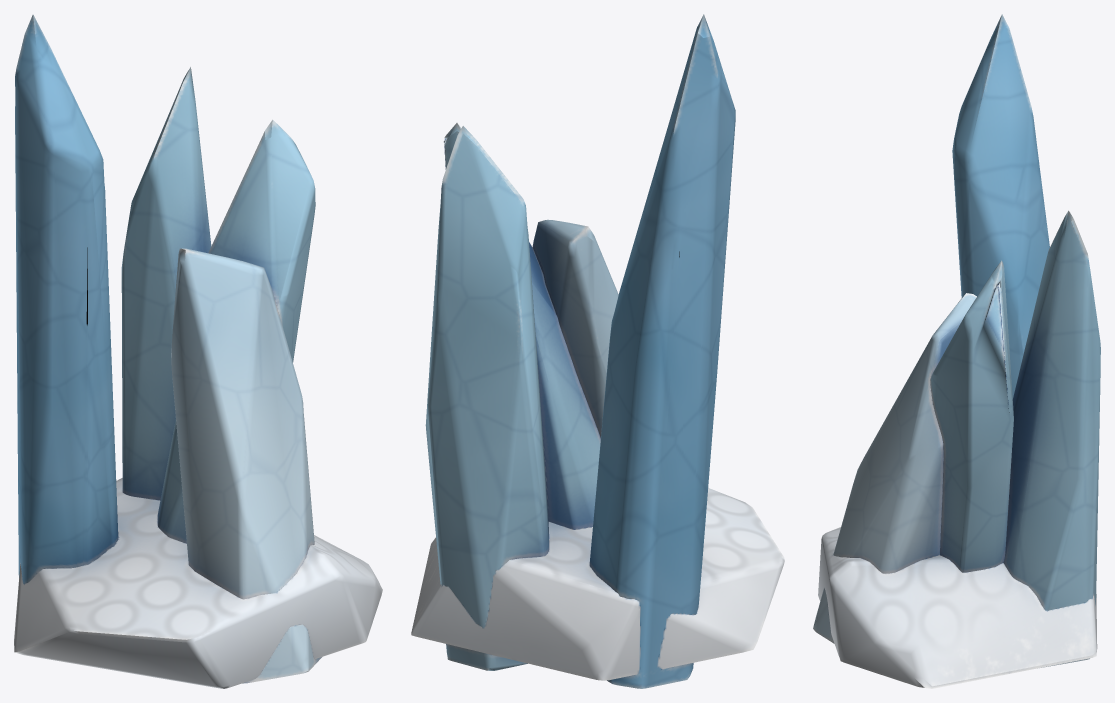
Rendered from Glace_Pic.fbx.
3 views of the same model, side by side, from view 1: azimuth 30°, elevation 25°; view 2: azimuth 150°, elevation 25°; view 3: azimuth 270°, elevation 25° (orthographic). The views are drawn at different scales.
Visible parts, largest first — view 1: Glace_Pic; view 2: Glace_Pic; view 3: Glace_Pic.
Boxes of the visible parts, x1,y1,x2,y2 form: Glace_Pic: (14, 14, 382, 688); Glace_Pic: (411, 14, 784, 688); Glace_Pic: (813, 14, 1100, 688).
Bounding box in the file's own units: 698 × 1276 × 584.
Materials: 1 (1 with a texture image).
